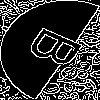B: (25, 25, 96, 76)
